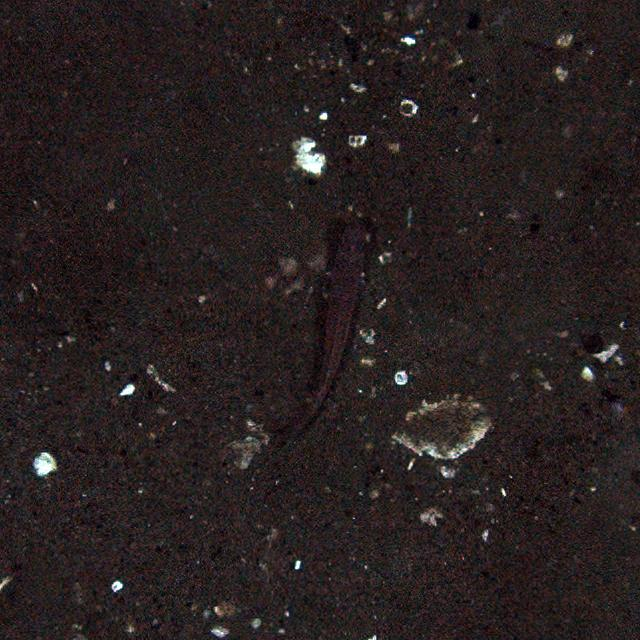roundfish: (272, 216, 382, 453)
